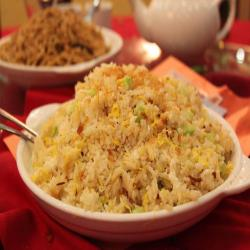rice: (48, 77, 208, 210)
